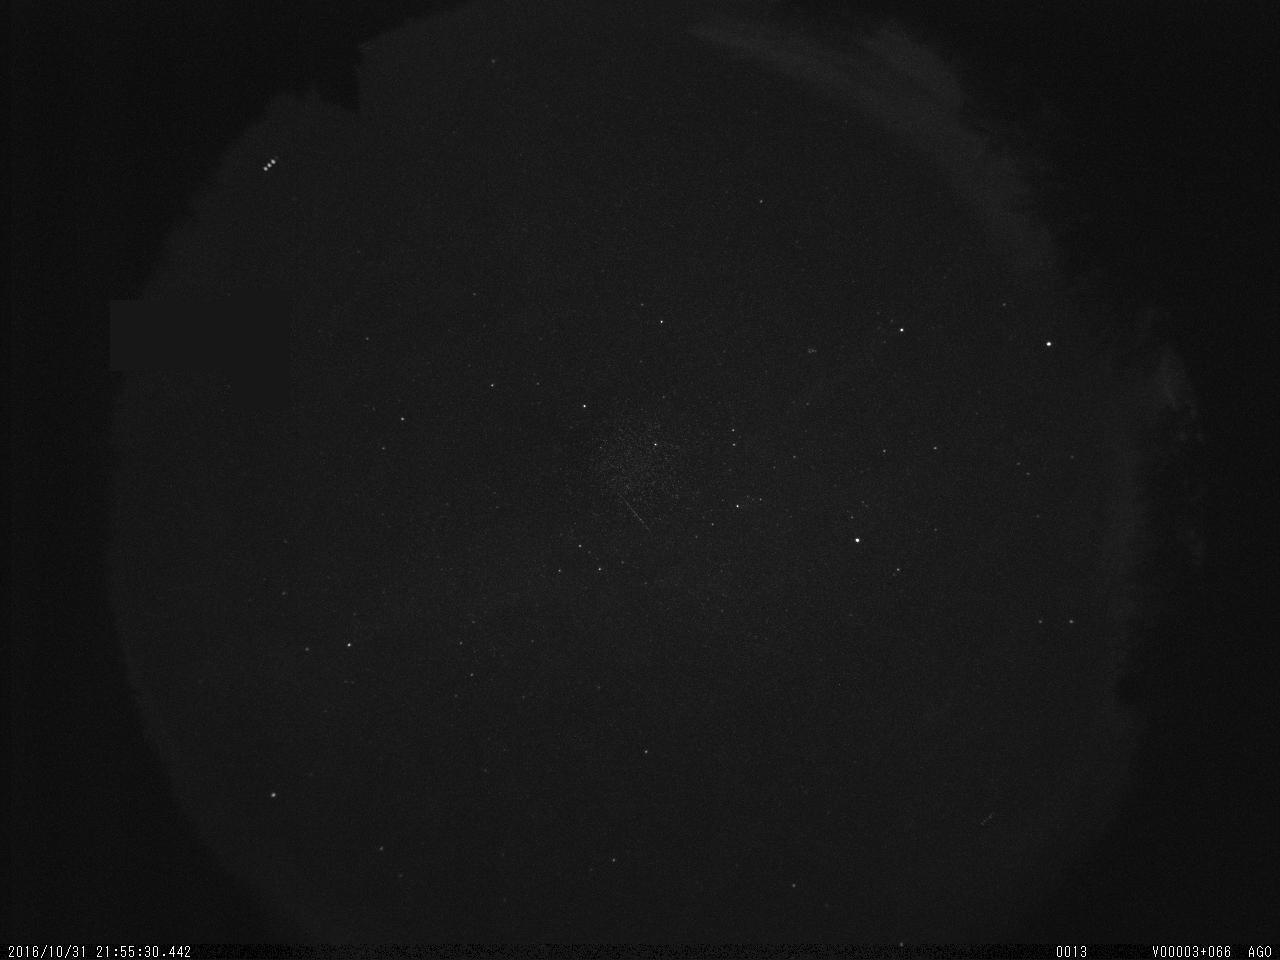satelite: (259, 150, 281, 179)
